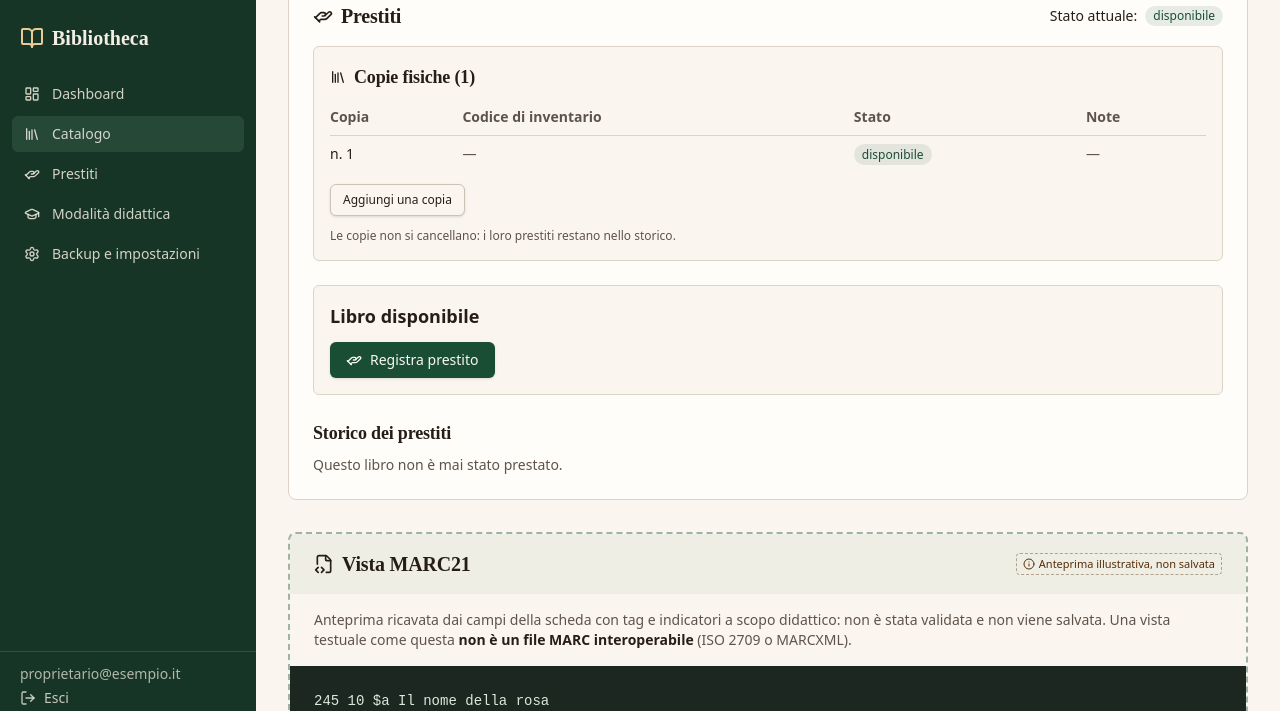
Test: Prestiti — scheda del libro › libro disponibile: stato «Libro disponibile» e azione «Registra prestito»; prima di salvare si verificano i dati
(page scrolled)
expect the text "Libro disponibile" is shown: met, box [330,304,479,328]
expect the text "Questo libro non è mai stato prestato." is shown: met, box [313,455,563,474]
Click the button "Registra prestito" at {"x": 412, "y": 360}, box [330,342,494,378]
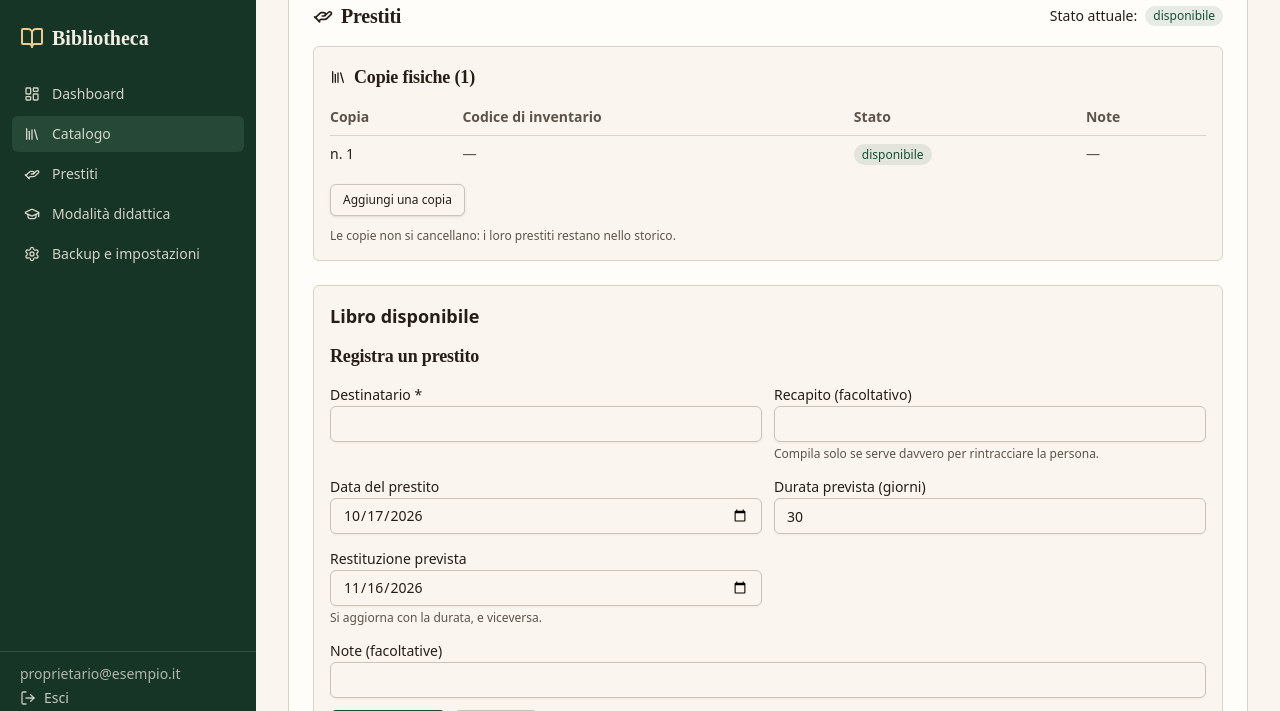
Type "Marta Rossi" into the field labelled "Destinatario *" at {"x": 546, "y": 424}, box [330,406,762,442]
(page scrolled)
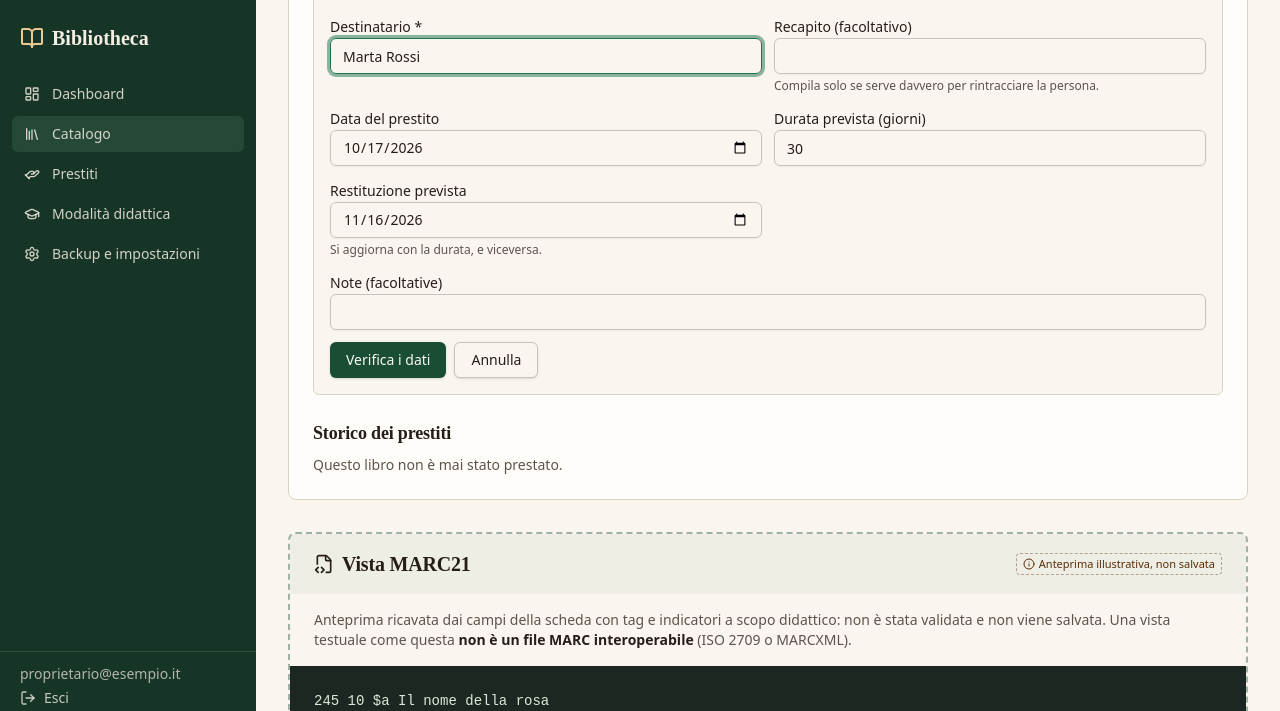
Click the button "Verifica i dati" at {"x": 388, "y": 360}, box [330,342,446,378]
(page scrolled)
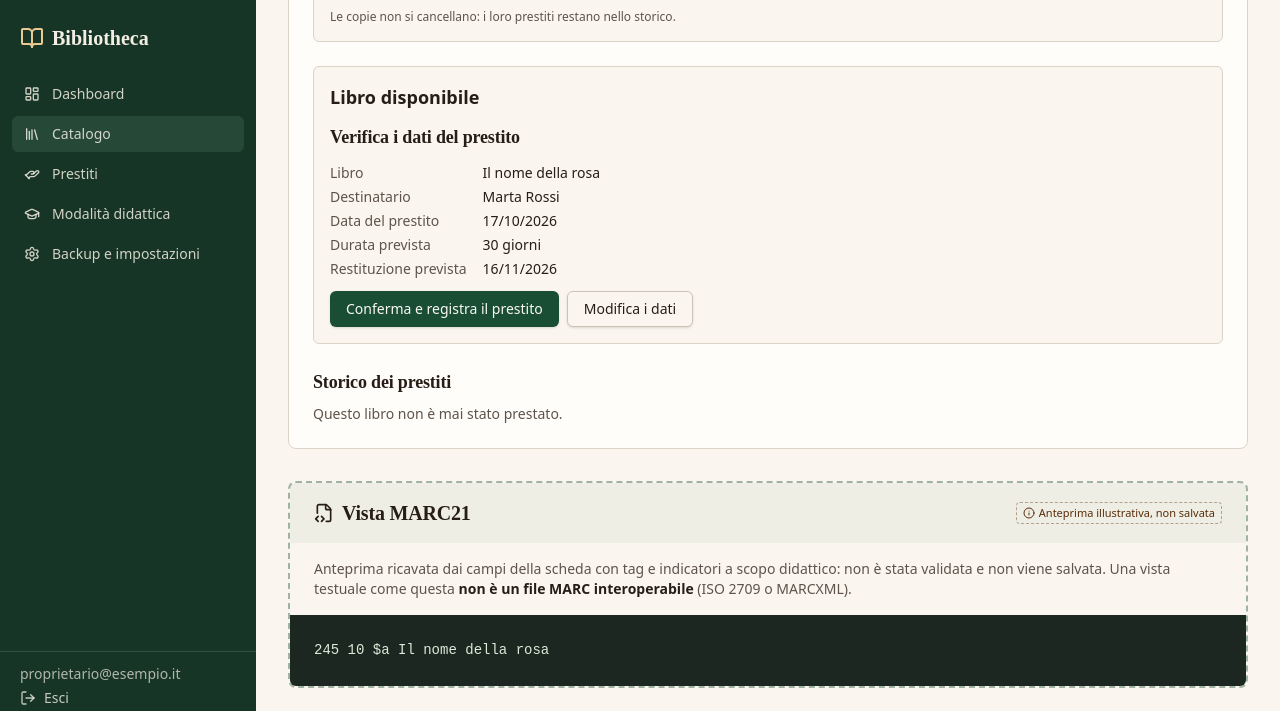
expect the text "Il nome della rosa" is shown: met, box [483,163,600,182]
expect the text "Marta Rossi" is shown: met, box [483,187,560,206]
Click the button "Conferma e registra il prestito" at {"x": 444, "y": 309}, box [330,291,559,327]
(page scrolled)
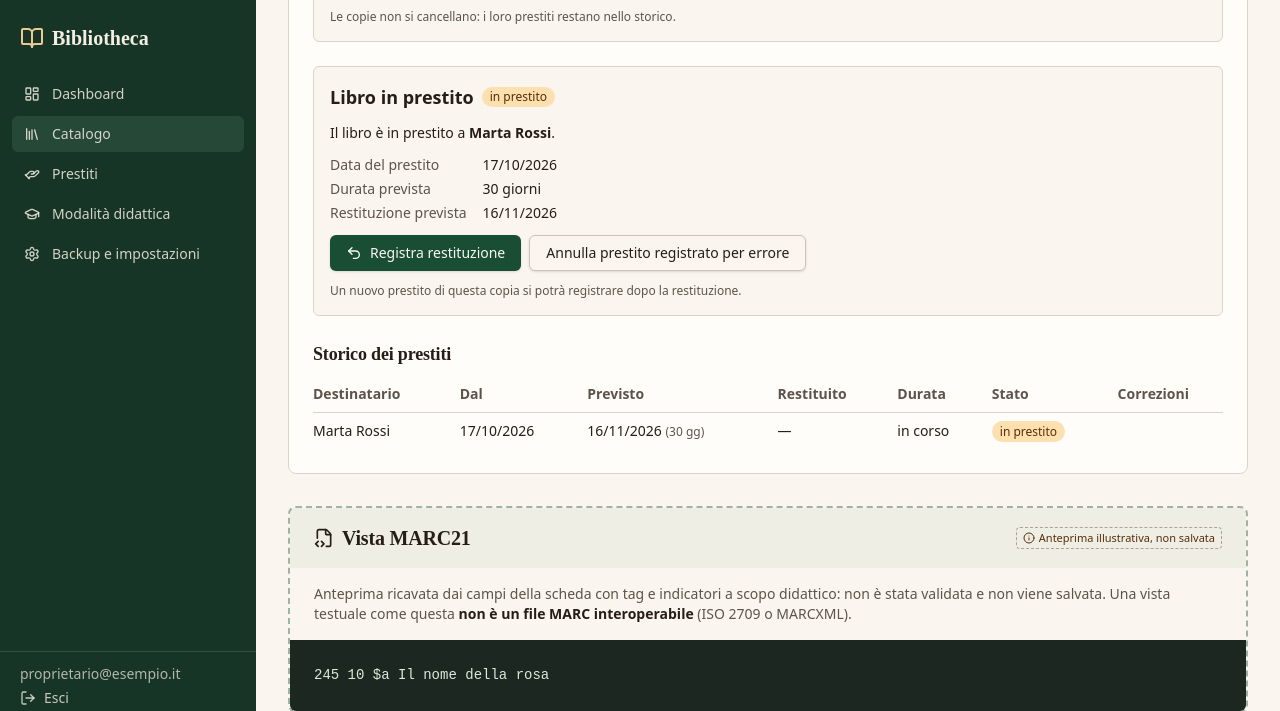
expect the text "Marta Rossi" is shown: met, box [313,413,460,449]
expect the text "in prestito" in the row of "gg)" is shown: met, box [1000,423,1057,440]
